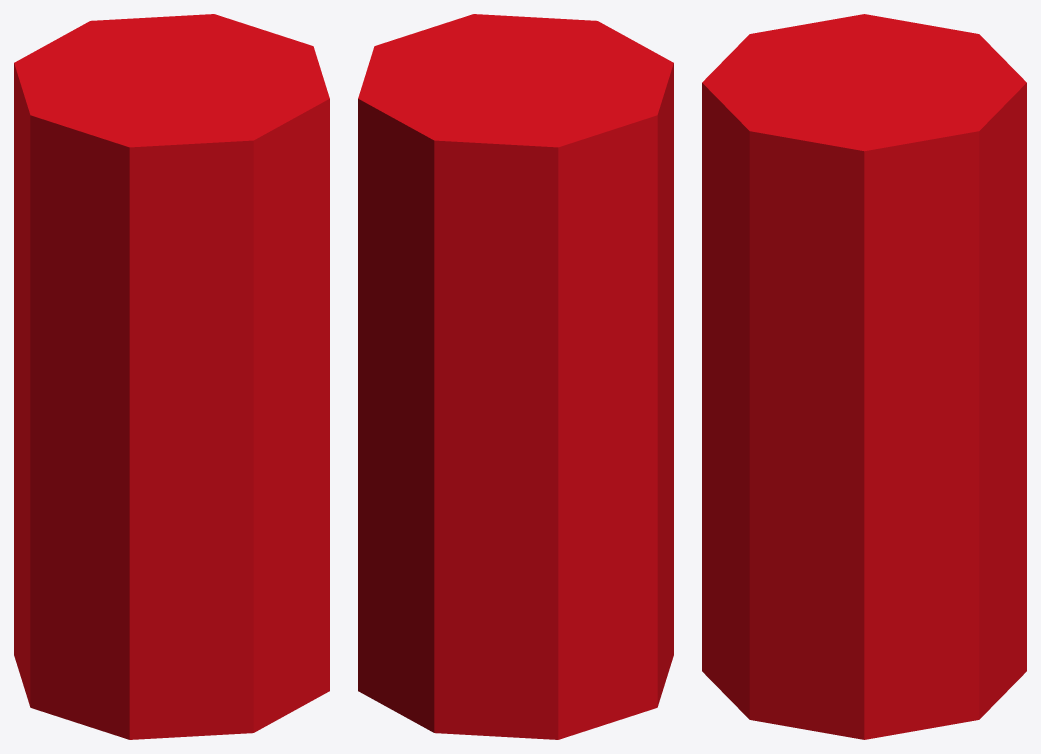
Rendered from Playerは円柱形.glb.
3 views of the same model, side by side, from view 1: azimuth 30°, elevation 25°; view 2: azimuth 150°, elevation 25°; view 3: azimuth 270°, elevation 25° (orthographic).
Parts seen in each view (by area): view 1: 円柱; view 2: 円柱; view 3: 円柱.
Part boxes in pixels (x1,y1,x2,y2): 円柱: (14,14,329,739); 円柱: (358,14,673,739); 円柱: (702,14,1026,739).
Bounding box in the file's own units: 1 × 2 × 1.
